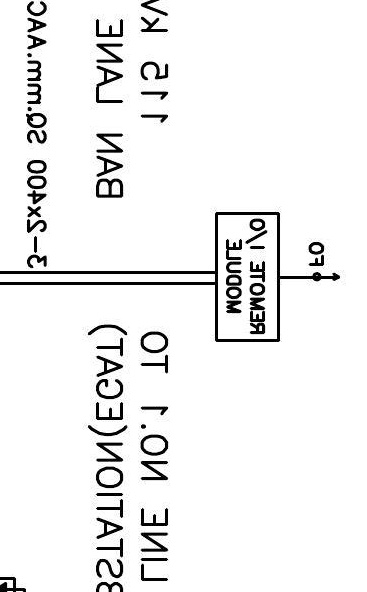remote_io_module: (214, 212, 280, 343)
